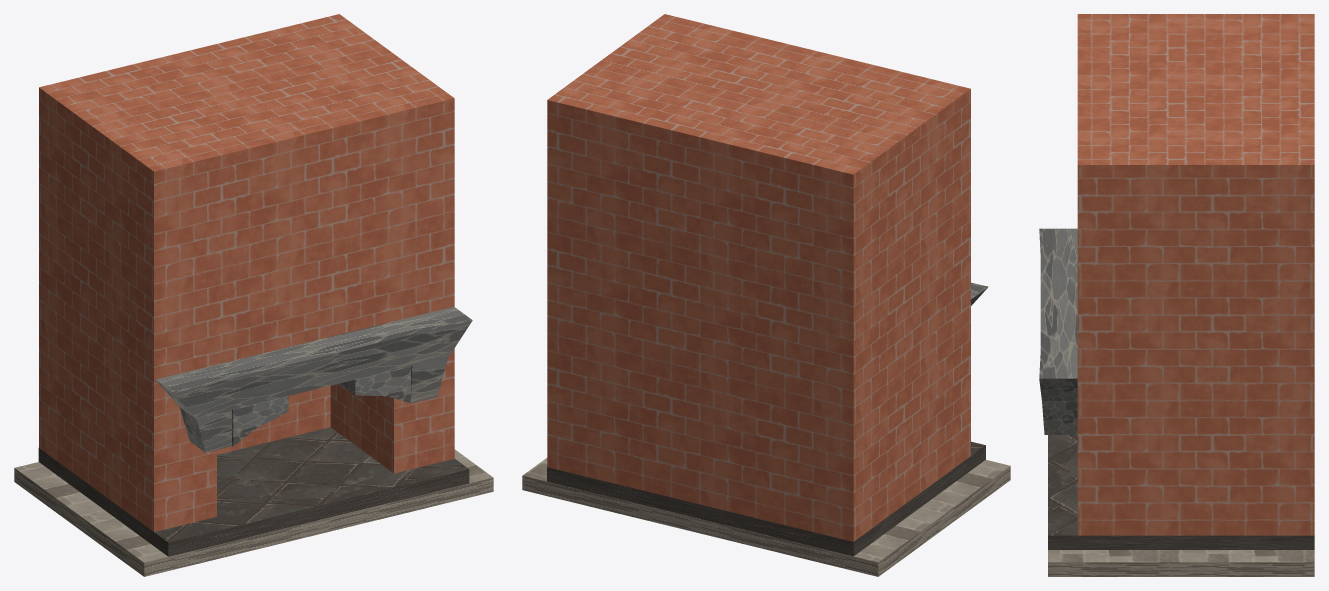
The model's file is fireplace.glb.
The picture shows the model from 3 angles, left to right: view 1: azimuth 30°, elevation 25°; view 2: azimuth 150°, elevation 25°; view 3: azimuth 270°, elevation 25°; orthographic projection. The views are drawn at different scales.
Visible parts, largest first — view 1: Cube, Cube.003, Cube.005, Cube.002, Cube.001, Cube.004; view 2: Cube, Cube.002, Cube.003; view 3: Cube, Cube.005, Cube.002, Cube.003.
Part boxes in pixels (<box>): Cube: <box>39,14,454,531</box>; Cube.003: <box>38,427,469,556</box>; Cube.005: <box>155,307,472,452</box>; Cube.002: <box>14,449,493,576</box>; Cube.001: <box>339,366,410,403</box>; Cube.004: <box>232,396,288,446</box>; Cube: <box>547,14,970,541</box>; Cube.002: <box>522,458,1010,576</box>; Cube.003: <box>547,441,985,556</box>; Cube: <box>1077,14,1314,535</box>; Cube.005: <box>1039,228,1077,434</box>; Cube.002: <box>1048,550,1314,576</box>; Cube.003: <box>1048,435,1314,549</box>.
Bounding box in the file's own units: 5.57 × 5.93 × 3.7.
5 materials, 5 textured.
